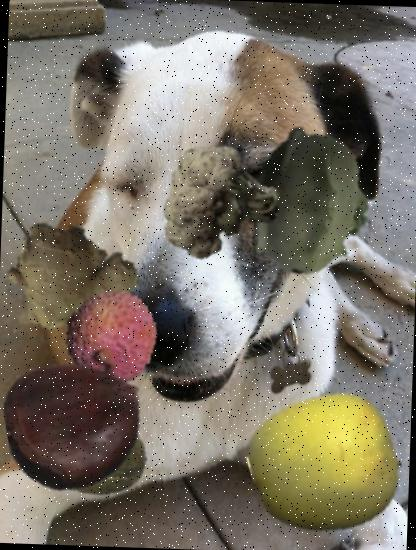Apple: (249, 388, 402, 542)
Cauliflower: (160, 142, 284, 266)
Chestnut: (4, 353, 148, 497)
Ginger: (2, 211, 142, 351)
Kohlrabi: (229, 126, 382, 279)
Lychee: (62, 286, 164, 388)
Melon: (29, 396, 150, 518)
